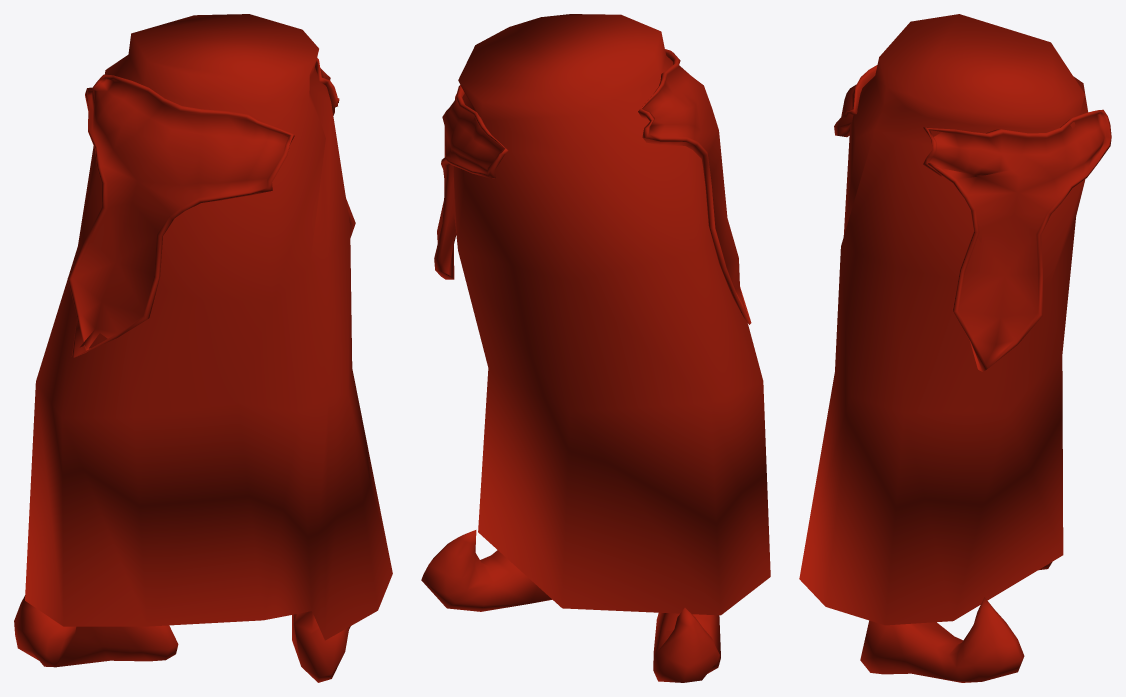
Rendered from bot_000054.obj.
The picture shows the model from 3 angles, left to right: view 1: azimuth 30°, elevation 25°; view 2: azimuth 150°, elevation 25°; view 3: azimuth 270°, elevation 25°; orthographic projection. The views are drawn at different scales.
Visible parts, largest first — view 1: LowPoly_Warlock.004_Plane.004; view 2: LowPoly_Warlock.004_Plane.004; view 3: LowPoly_Warlock.004_Plane.004.
Boxes of the visible parts, left/top/right/bottom form: LowPoly_Warlock.004_Plane.004: left=14, top=14, right=392, bottom=682; LowPoly_Warlock.004_Plane.004: left=421, top=14, right=770, bottom=682; LowPoly_Warlock.004_Plane.004: left=799, top=14, right=1111, bottom=682.
Bounding box in the file's own units: 0.6135 × 1.14 × 0.5405.
